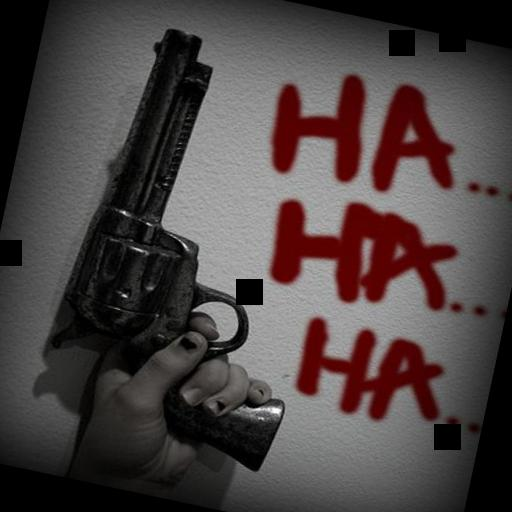Handgun: (32, 14, 356, 472)
